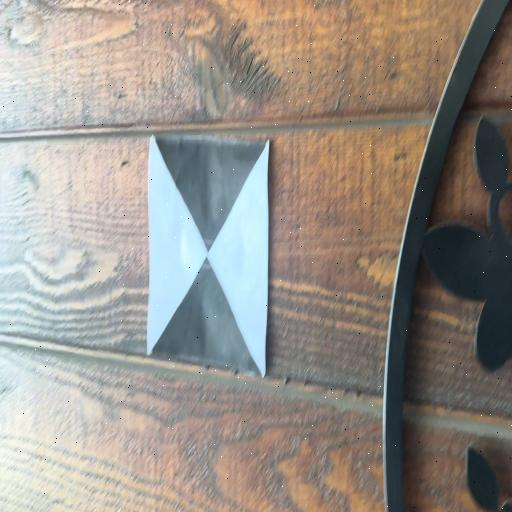target: (149, 143, 266, 352)
